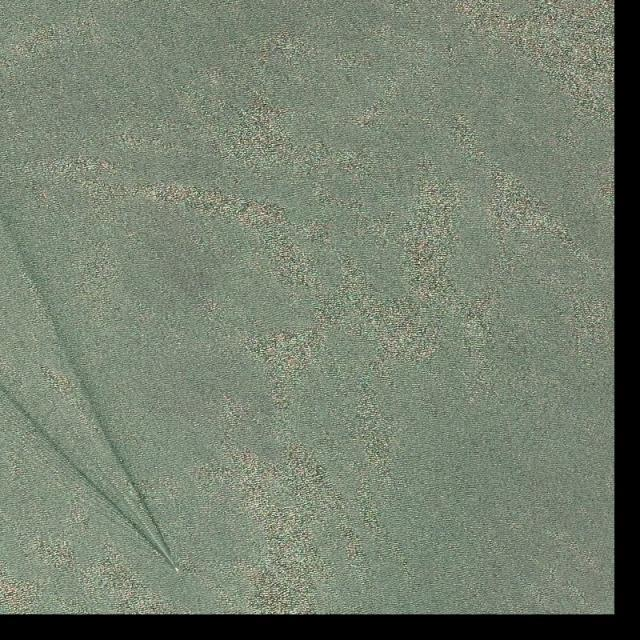ship: (174, 566, 180, 573)
